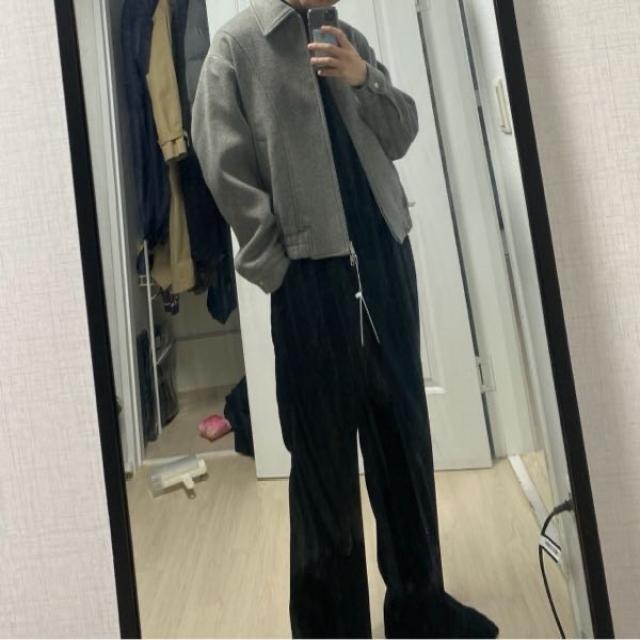jacket: (189, 0, 423, 293)
slacks: (270, 218, 445, 640)
